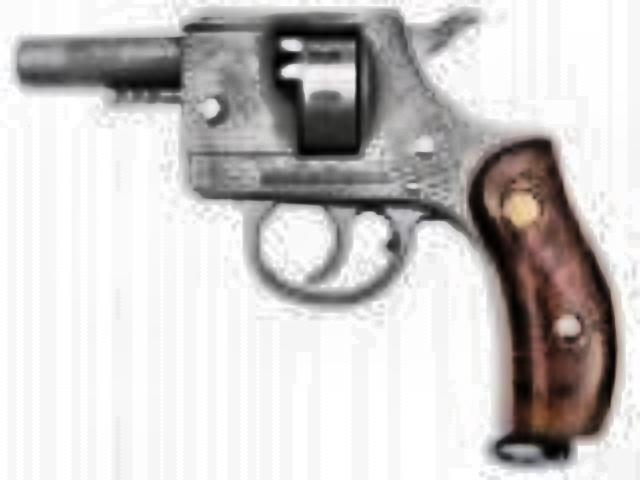pistol: (12, 0, 624, 448)
